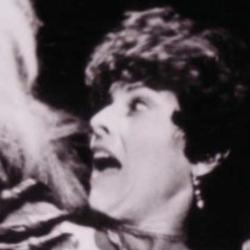face: (66, 8, 244, 225)
